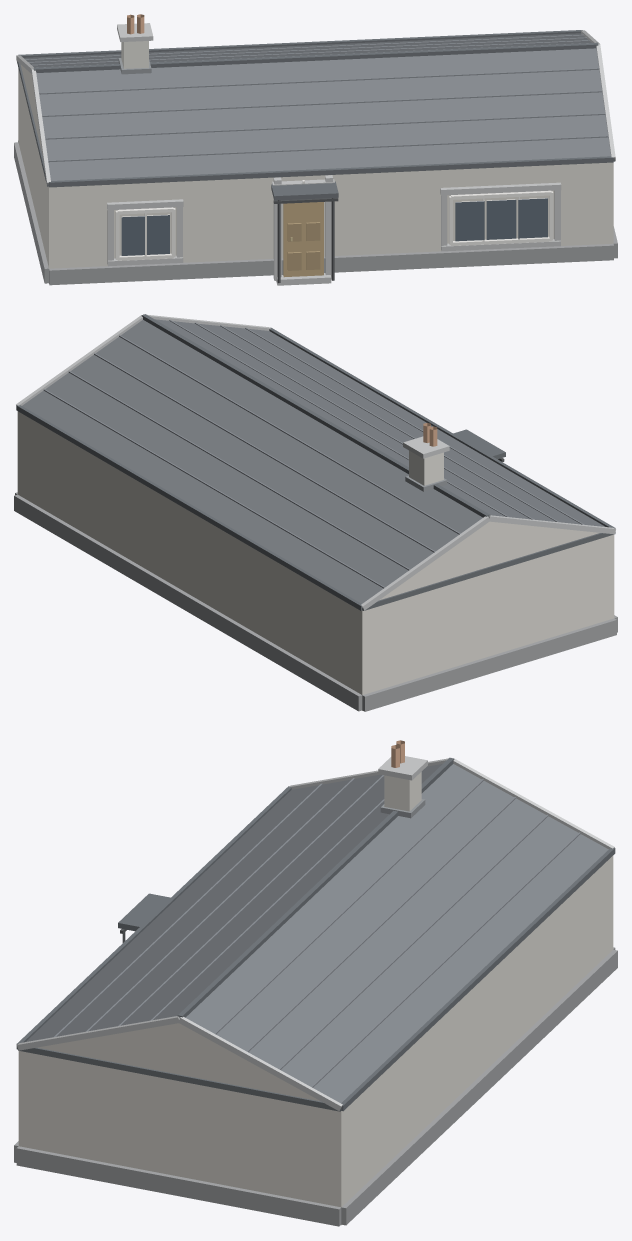
3 views of the same model, one above another, from view 1: azimuth 30°, elevation 25°; view 2: azimuth 150°, elevation 25°; view 3: azimuth 270°, elevation 25° (orthographic). The views are drawn at different scales.
Visible parts, largest first — view 1: slate, harl_grey, slate_dk, plinth, slate_lt, stone_band, frame, door_wood, window_glass_002, window_glass_001, window_glass_003, door_wood_p (+4 smaller); view 2: slate, harl_grey, plinth, slate_dk, slate_lt, stone_band, chim_render; view 3: slate, harl_grey, plinth, slate_dk, slate_lt, stone_band, chim_render.
Part boxes in pixels (x1=…): slate: x1=24, y1=33, x2=610, y2=180; harl_grey: x1=18, y1=65, x2=613, y2=268; slate_dk: x1=17, y1=30, x2=615, y2=200; plinth: x1=14, y1=140, x2=617, y2=285; slate_lt: x1=25, y1=34, x2=608, y2=162; stone_band: x1=16, y1=23, x2=615, y2=285; frame: x1=115, y1=180, x2=553, y2=260; door_wood: x1=283, y1=202, x2=323, y2=277; window_glass_002: x1=486, y1=199, x2=516, y2=239; window_glass_001: x1=518, y1=198, x2=547, y2=238; window_glass_003: x1=455, y1=201, x2=484, y2=241; door_wood_p: x1=287, y1=222, x2=320, y2=270; slate: x1=22, y1=319, x2=605, y2=603; harl_grey: x1=17, y1=411, x2=614, y2=710; plinth: x1=14, y1=492, x2=617, y2=711; slate_dk: x1=16, y1=314, x2=615, y2=610; slate_lt: x1=43, y1=320, x2=584, y2=588; stone_band: x1=16, y1=314, x2=615, y2=610; chim_render: x1=409, y1=450, x2=443, y2=485; slate: x1=26, y1=764, x2=608, y2=1103; harl_grey: x1=18, y1=855, x2=613, y2=1225; plinth: x1=14, y1=947, x2=617, y2=1226; slate_dk: x1=16, y1=757, x2=615, y2=1111; slate_lt: x1=54, y1=775, x2=580, y2=1087; stone_band: x1=17, y1=756, x2=614, y2=1111; chim_render: x1=384, y1=772, x2=421, y2=811.
Size of the model in its own units: 16.05 by 5.68 by 12.68.
